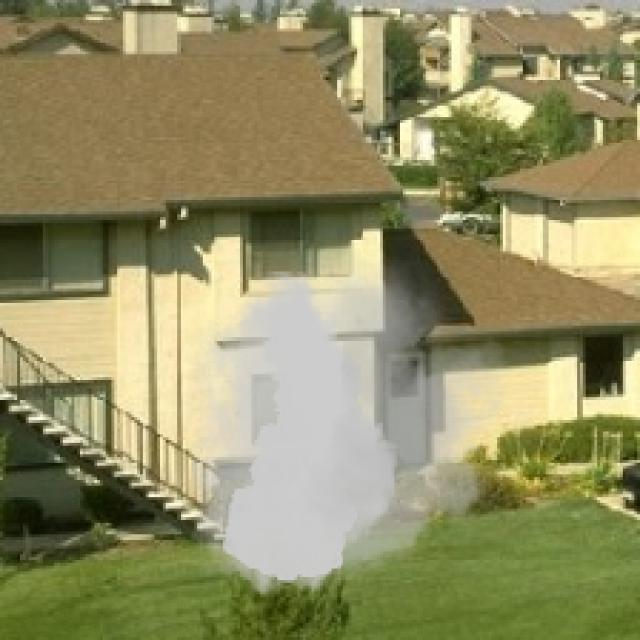smoke: (163, 248, 526, 606)
